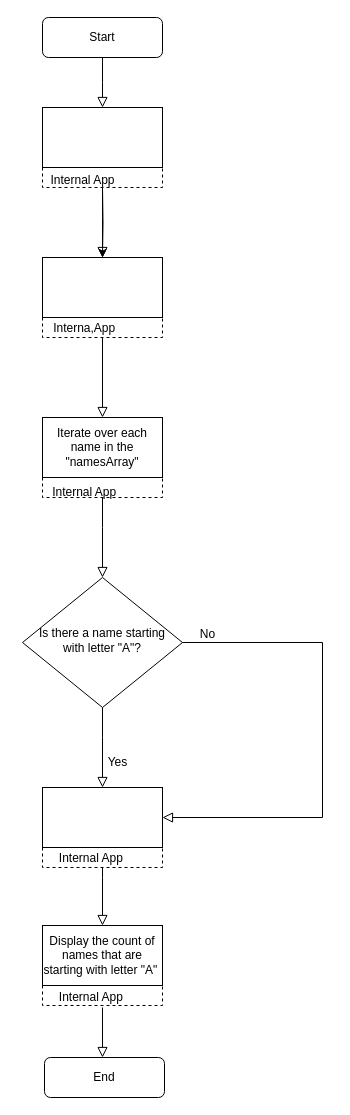
This 350x1115 diagram has some shape labels left out. Each missing label, with the box of its shape:
Assign the value "0" to the variable count: (42, 256, 162, 318)
Increment the value of count by 1: (42, 786, 162, 848)
Initialize the variables "namesArray" and "firstLetter": (42, 106, 162, 168)
